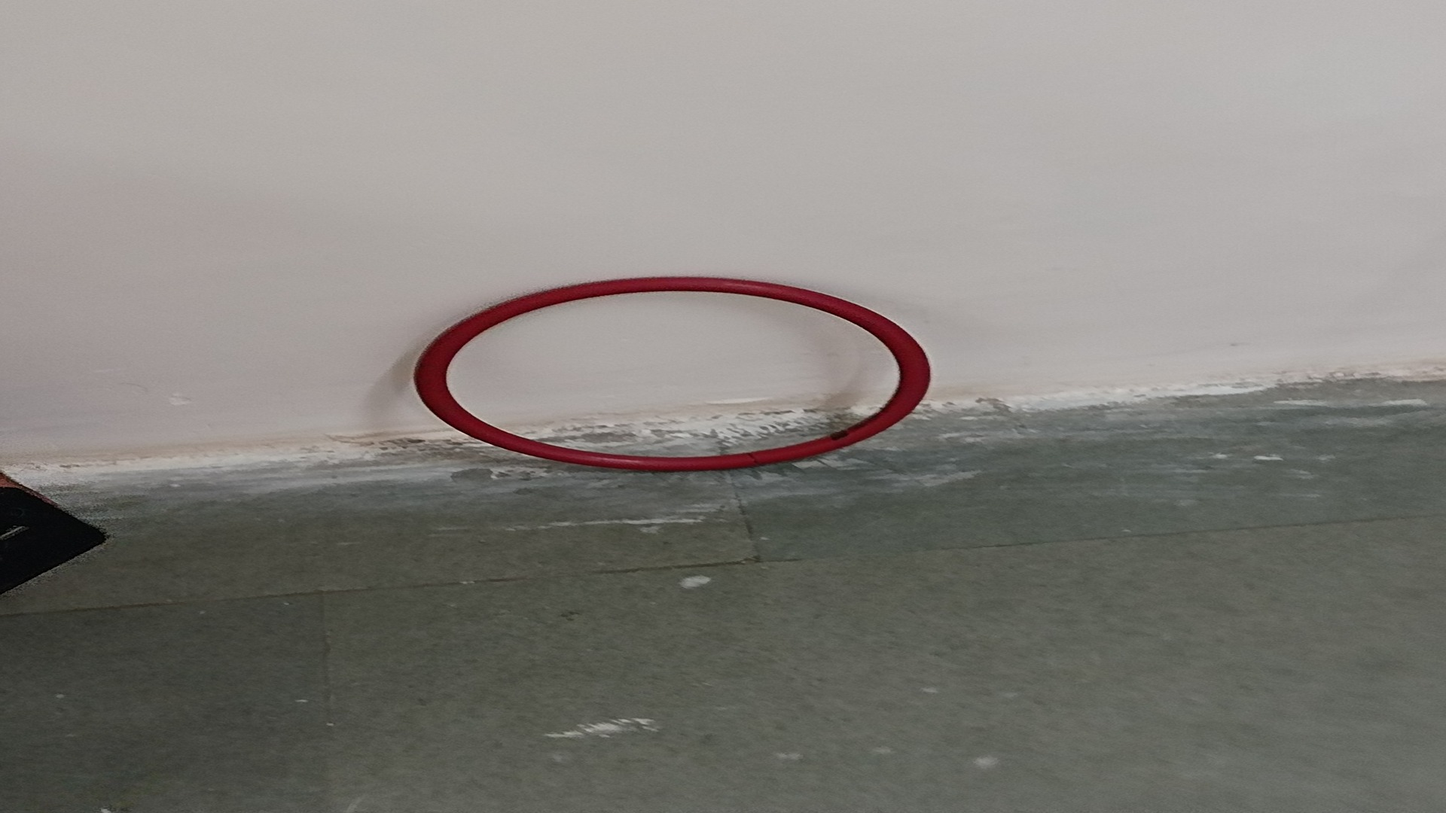Red ring: (416, 274, 933, 472)
